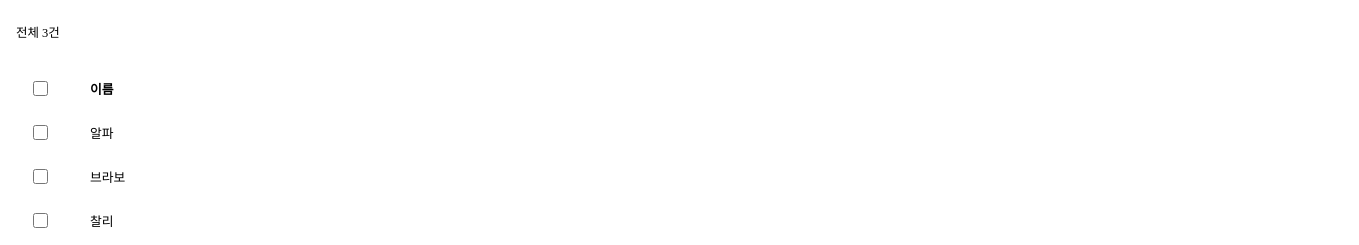
Test: DataTableBox › Header 선언 없이도 선택 후 삭제하고 성공하면 선택을 해제한다
This screenshot has width=1359, height=245.
Expected: the button "삭제" is not shown
Click the checkbox named "행 선택" next to "알파". click: (40, 132)
box: [33,124,48,140]
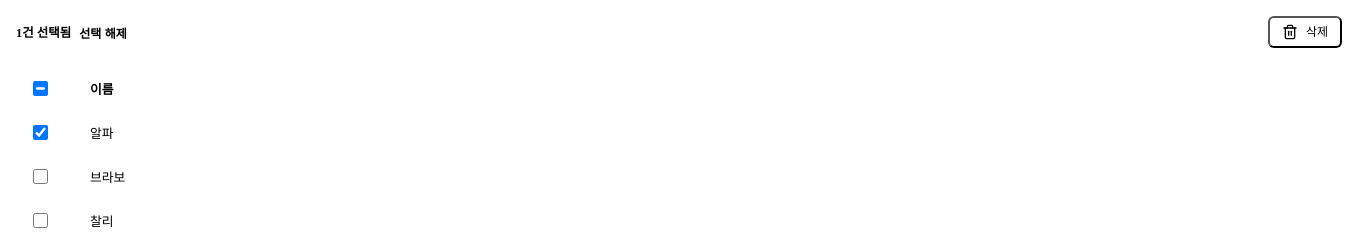
Click the button "삭제". click: (1305, 32)
box: [1268,16,1342,48]
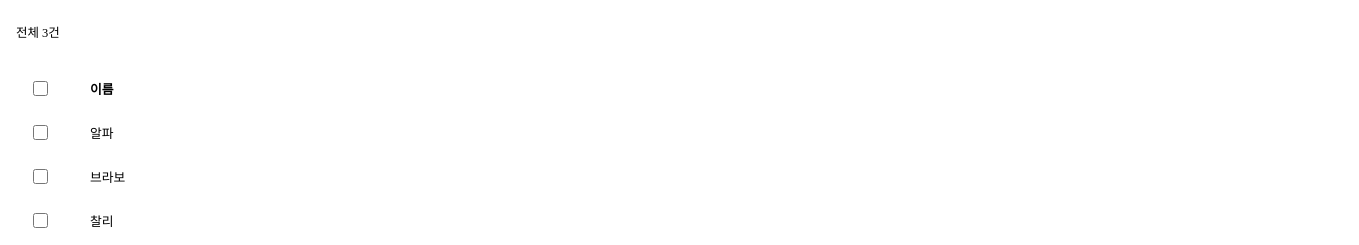
Result: the text "전체 3건" is shown at [16,23,60,41]
